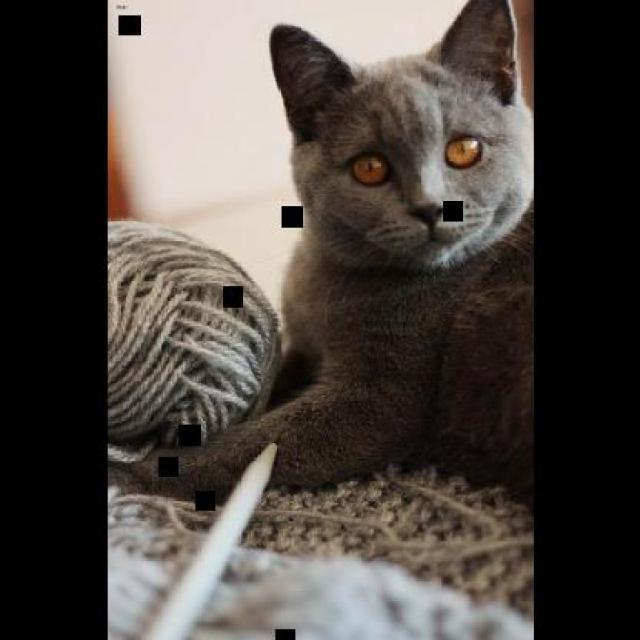unauthorized: (108, 0, 534, 511)
